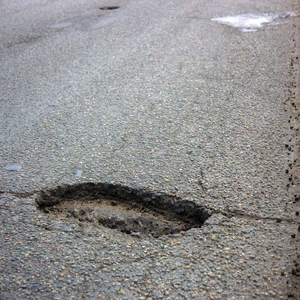pothole: (33, 179, 218, 246)
